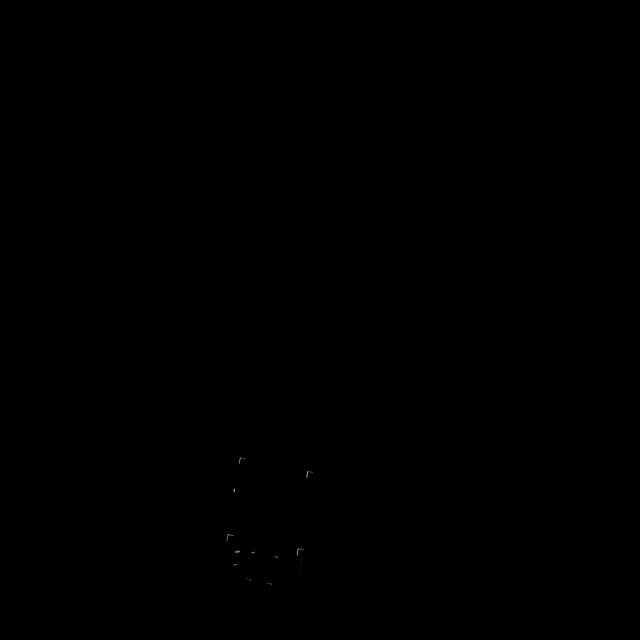satellite: (204, 442, 334, 608)
